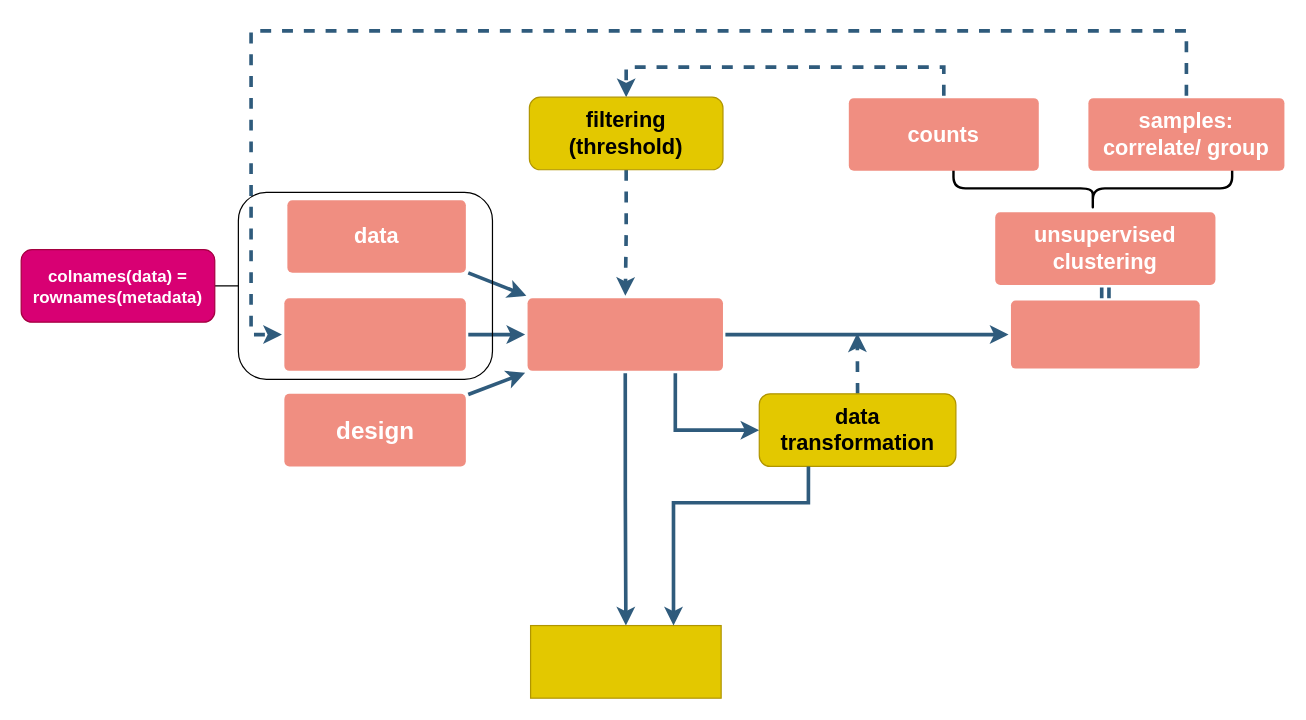
This 1306x720 diagram has some shape labels left out. Here are the shapes that lost their labels. From the top down, the centre of each, then its label:
pixel 374 334: metadata (named rows)
pixel 624 334: DESeq2 object ( dds )
pixel 1104 334: d ata exploration (QC)
pixel 625 661: normalization & DE gene analysis
